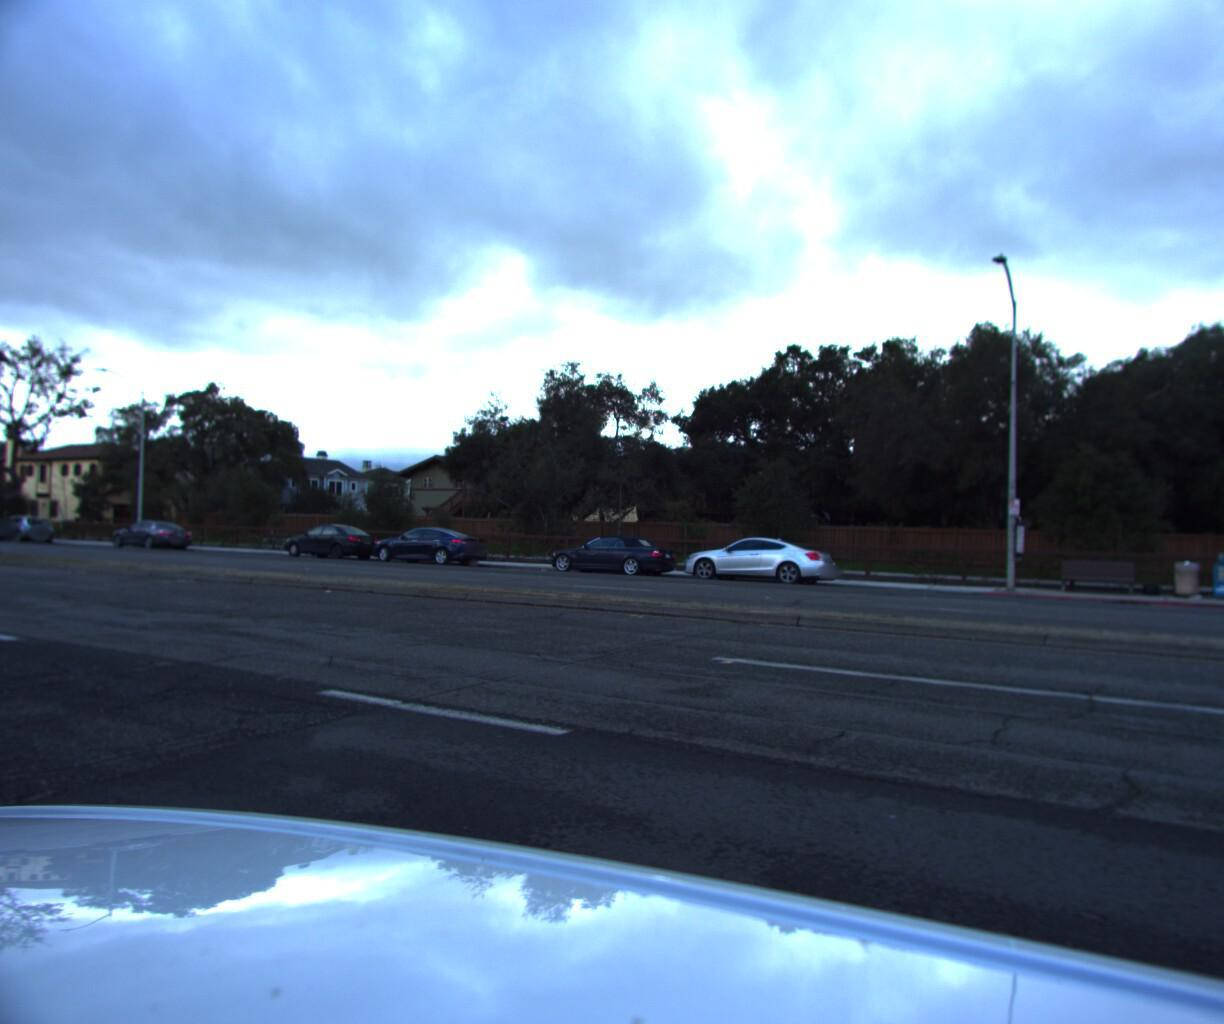car: (670, 533, 844, 588), (541, 531, 682, 581), (362, 529, 500, 573), (278, 525, 385, 564), (107, 523, 194, 556)
